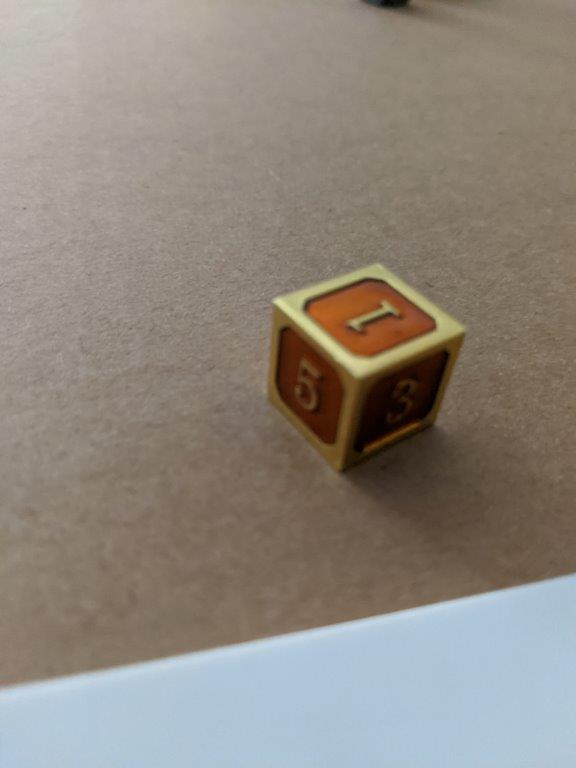d6-1: (266, 262, 464, 470)
